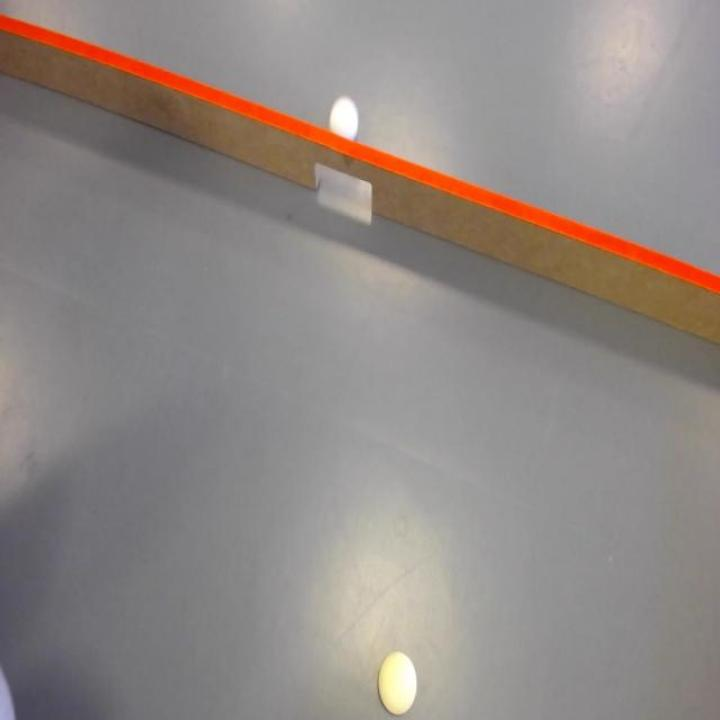white: (376, 651, 420, 718), (329, 96, 359, 141)
